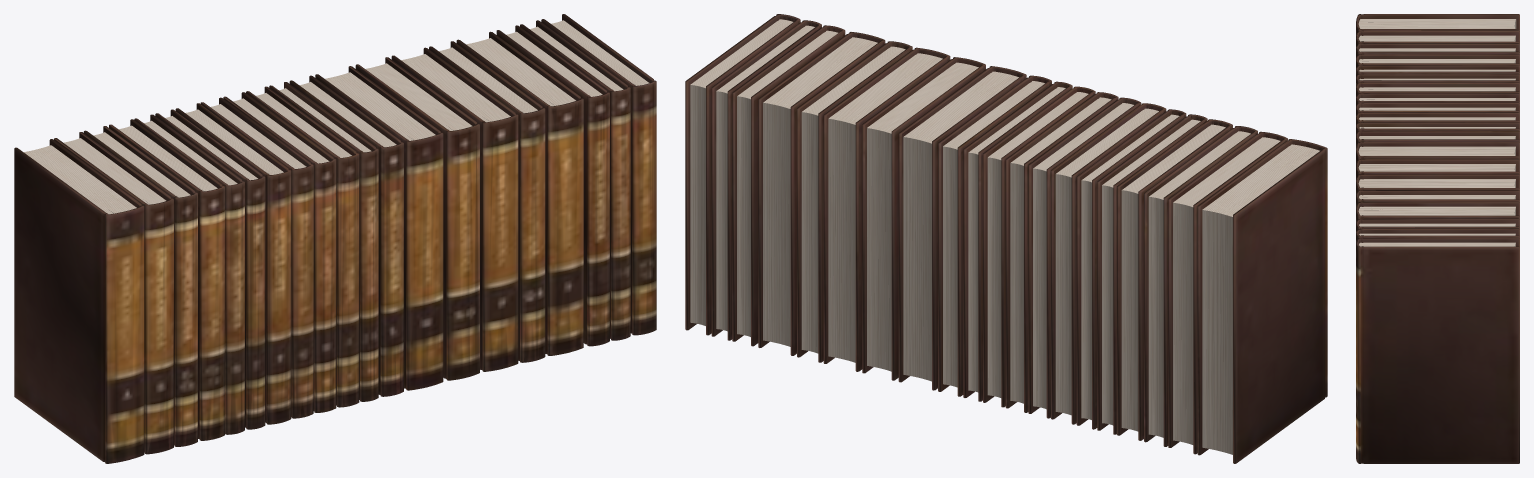
The model's file is book_encyclopedia_set_01.glb.
The picture shows the model from 3 angles, left to right: view 1: azimuth 30°, elevation 25°; view 2: azimuth 150°, elevation 25°; view 3: azimuth 270°, elevation 25°; orthographic projection. The views are drawn at different scales.
Visible parts, largest first — view 1: book_encyclopedia_set_01_book01, book_encyclopedia_set_01_book13, book_encyclopedia_set_01_book15, book_encyclopedia_set_01_book17, book_encyclopedia_set_01_book14, book_encyclopedia_set_01_book02, book_encyclopedia_set_01_book16, book_encyclopedia_set_01_book04, book_encyclopedia_set_01_book18, book_encyclopedia_set_01_book20, book_encyclopedia_set_01_book07, book_encyclopedia_set_01_book12 (+8 smaller); view 2: book_encyclopedia_set_01_book01, book_encyclopedia_set_01_book13, book_encyclopedia_set_01_book15, book_encyclopedia_set_01_book17, book_encyclopedia_set_01_book14, book_encyclopedia_set_01_book02, book_encyclopedia_set_01_book04, book_encyclopedia_set_01_book16, book_encyclopedia_set_01_book18, book_encyclopedia_set_01_book20, book_encyclopedia_set_01_book07, book_encyclopedia_set_01_book12 (+8 smaller); view 3: book_encyclopedia_set_01_book20, book_encyclopedia_set_01_book13, book_encyclopedia_set_01_book01, book_encyclopedia_set_01_book17, book_encyclopedia_set_01_book15, book_encyclopedia_set_01_book14, book_encyclopedia_set_01_book02, book_encyclopedia_set_01_book16, book_encyclopedia_set_01_book03, book_encyclopedia_set_01_book04, book_encyclopedia_set_01_book12, book_encyclopedia_set_01_book07 (+8 smaller).
Boxes of the visible parts, x1,y1,x2,y2 form: book_encyclopedia_set_01_book01: (14, 139, 144, 463); book_encyclopedia_set_01_book13: (315, 66, 443, 390); book_encyclopedia_set_01_book15: (391, 47, 518, 371); book_encyclopedia_set_01_book17: (456, 31, 583, 355); book_encyclopedia_set_01_book14: (355, 57, 479, 380); book_encyclopedia_set_01_book02: (54, 132, 173, 454); book_encyclopedia_set_01_book16: (429, 41, 545, 362); book_encyclopedia_set_01_book04: (109, 119, 224, 440); book_encyclopedia_set_01_book18: (496, 25, 609, 346); book_encyclopedia_set_01_book20: (541, 14, 656, 335); book_encyclopedia_set_01_book07: (175, 103, 291, 424); book_encyclopedia_set_01_book12: (289, 75, 403, 396); book_encyclopedia_set_01_book01: (1197, 139, 1327, 463); book_encyclopedia_set_01_book13: (898, 66, 1026, 390); book_encyclopedia_set_01_book15: (823, 47, 950, 371); book_encyclopedia_set_01_book17: (758, 32, 885, 355); book_encyclopedia_set_01_book14: (862, 57, 985, 380); book_encyclopedia_set_01_book02: (1168, 131, 1287, 454); book_encyclopedia_set_01_book04: (1117, 119, 1232, 440); book_encyclopedia_set_01_book16: (797, 41, 912, 362); book_encyclopedia_set_01_book18: (732, 25, 845, 346); book_encyclopedia_set_01_book20: (685, 14, 800, 335); book_encyclopedia_set_01_book07: (1051, 103, 1166, 424); book_encyclopedia_set_01_book12: (938, 75, 1051, 396); book_encyclopedia_set_01_book20: (1356, 238, 1519, 463); book_encyclopedia_set_01_book13: (1356, 142, 1519, 165); book_encyclopedia_set_01_book01: (1356, 14, 1519, 35); book_encyclopedia_set_01_book17: (1356, 202, 1519, 222); book_encyclopedia_set_01_book15: (1356, 174, 1519, 194); book_encyclopedia_set_01_book14: (1356, 159, 1519, 181); book_encyclopedia_set_01_book02: (1356, 30, 1519, 47); book_encyclopedia_set_01_book16: (1356, 190, 1519, 208); book_encyclopedia_set_01_book03: (1356, 43, 1519, 59); book_encyclopedia_set_01_book04: (1356, 54, 1519, 84); book_encyclopedia_set_01_book12: (1356, 131, 1519, 149); book_encyclopedia_set_01_book07: (1356, 82, 1519, 96).
Size of the model in its own units: 0.5513 by 0.2374 by 0.1631.
2 materials, 2 textured.
